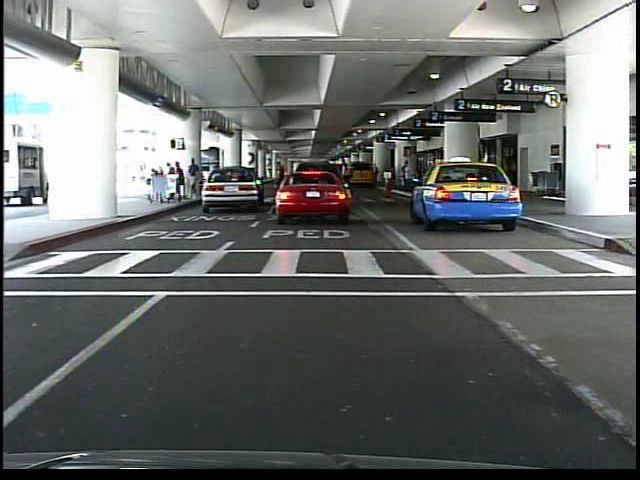person: (273, 158, 290, 205), (341, 158, 354, 201), (191, 158, 203, 200), (400, 158, 412, 193), (325, 167, 336, 202), (402, 161, 413, 189)
